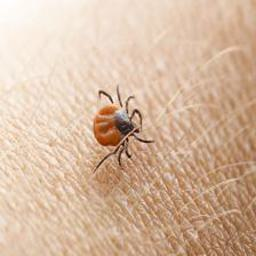Dermacentor variabilis: (92, 84, 158, 175)
